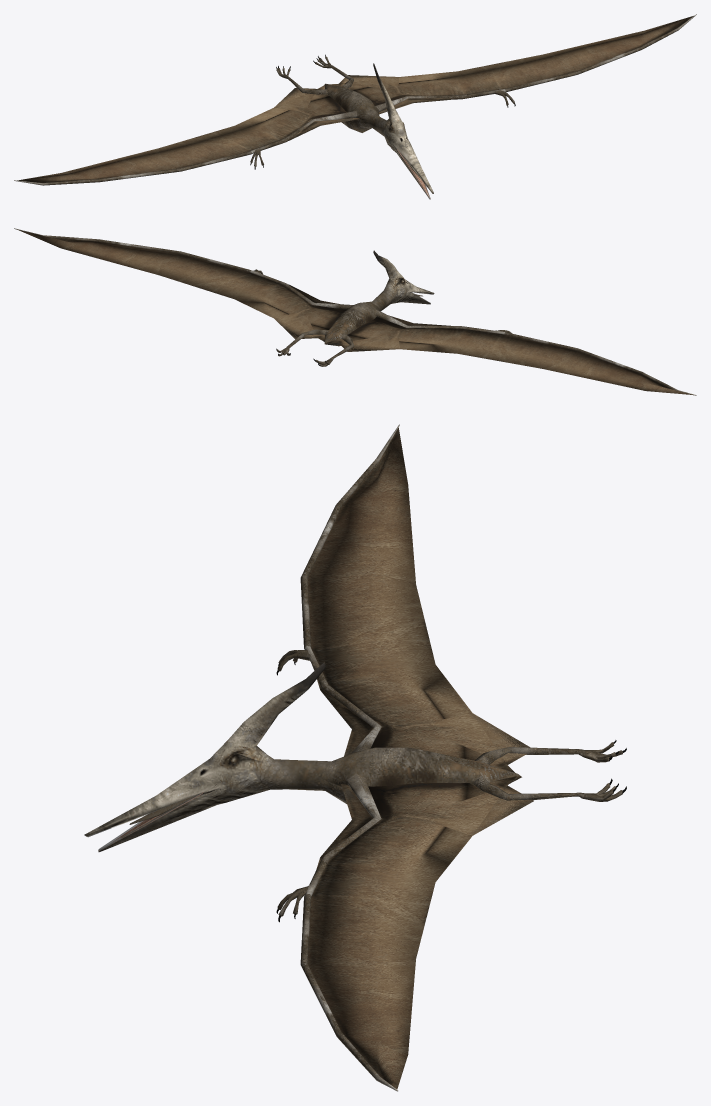
File: ptero.obj
3 renders of one model, top to bottom at view 1: azimuth 30°, elevation 25°; view 2: azimuth 150°, elevation 25°; view 3: azimuth 270°, elevation 25°, orthographic. The views are drawn at different scales.
Visible parts, largest first — view 1: corpo1_corpo; view 2: corpo1_corpo; view 3: corpo1_corpo.
Part boxes in pixels (x1,y1,x2,y2): corpo1_corpo: [14, 14, 696, 199]; corpo1_corpo: [14, 228, 696, 395]; corpo1_corpo: [84, 424, 626, 1091].
Size of the model in its own units: 1891 by 253 by 651.
1 material, 1 textured.
